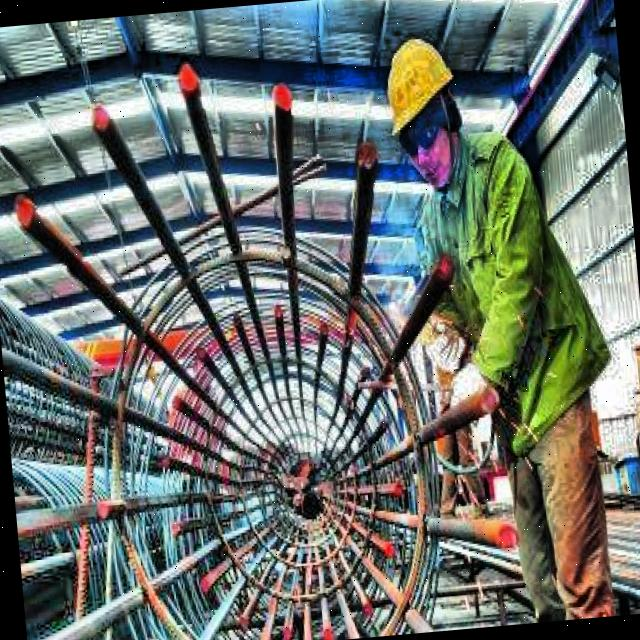helmet: (370, 26, 470, 196)
